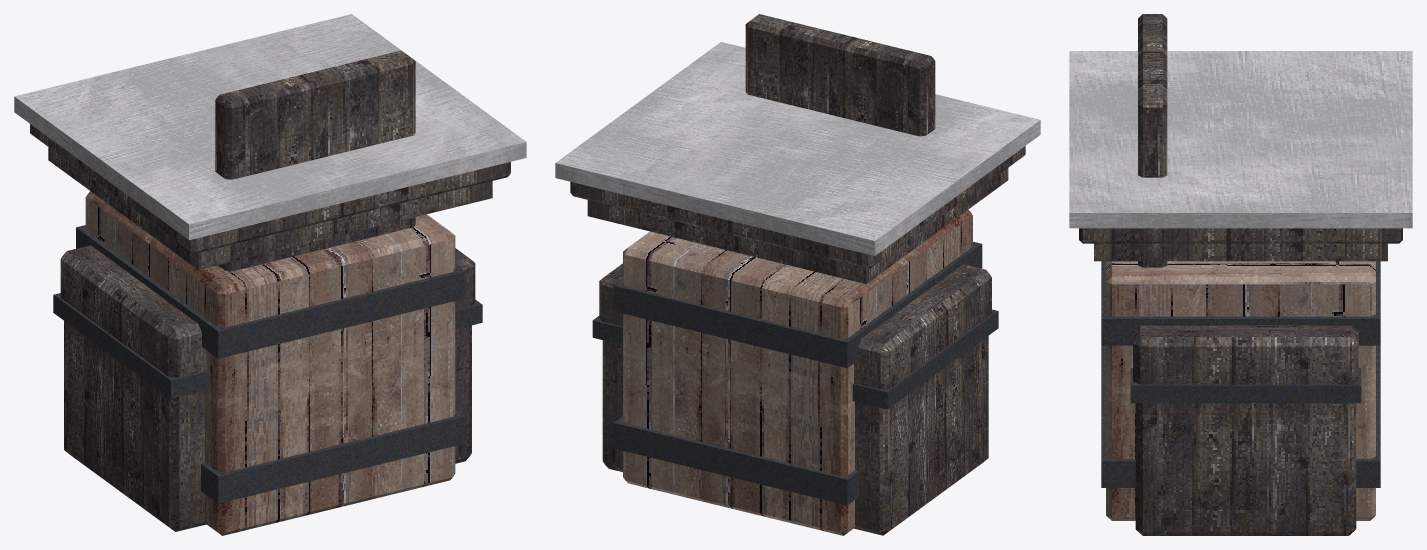
The model's file is props.glb.
3 views of the same model, side by side, from view 1: azimuth 30°, elevation 25°; view 2: azimuth 150°, elevation 25°; view 3: azimuth 270°, elevation 25° (orthographic). The views are drawn at different scales.
Visible parts, largest first — view 1: crate, dining_table, lockbox, dining_chair; view 2: crate, dining_table, lockbox, dining_chair; view 3: dining_table, lockbox, crate, dining_chair.
Part boxes in pixels (bbox=[...]): crate: bbox=[76, 191, 464, 535]; dining_table: bbox=[14, 14, 526, 269]; lockbox: bbox=[53, 245, 482, 531]; dining_chair: bbox=[215, 50, 415, 271]; crate: bbox=[613, 209, 982, 535]; dining_table: bbox=[555, 42, 1040, 283]; lockbox: bbox=[592, 263, 998, 535]; dining_chair: bbox=[745, 14, 935, 136]; dining_table: bbox=[1069, 51, 1412, 261]; lockbox: bbox=[1130, 325, 1361, 535]; crate: bbox=[1101, 261, 1380, 520]; dining_chair: bbox=[1138, 14, 1167, 267].
Size of the model in its own units: 0.78 by 0.92 by 0.7.
Materials: 1 (1 with a texture image).
